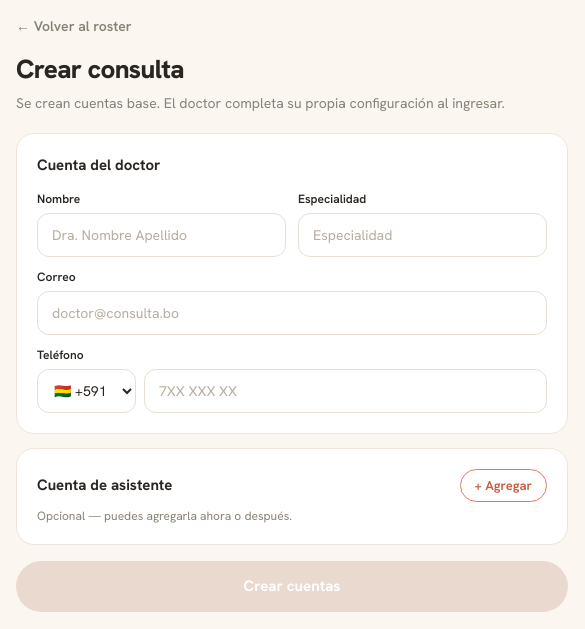
Test case: CreatePracticeForm › shows the setup links after a successful submission
This screenshot has width=585, height=629.
Type "Dra. Carla Mendoza" into the field labelled "Nombre" at (162, 234), box top-left (37, 212), bottom-right (286, 256)
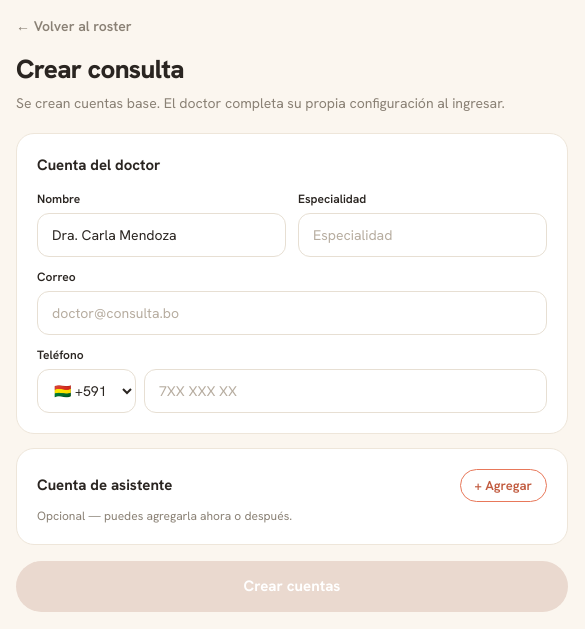
Type "Cardiología" into the field labelled "Especialidad" at (422, 234), box top-left (298, 212), bottom-right (547, 256)
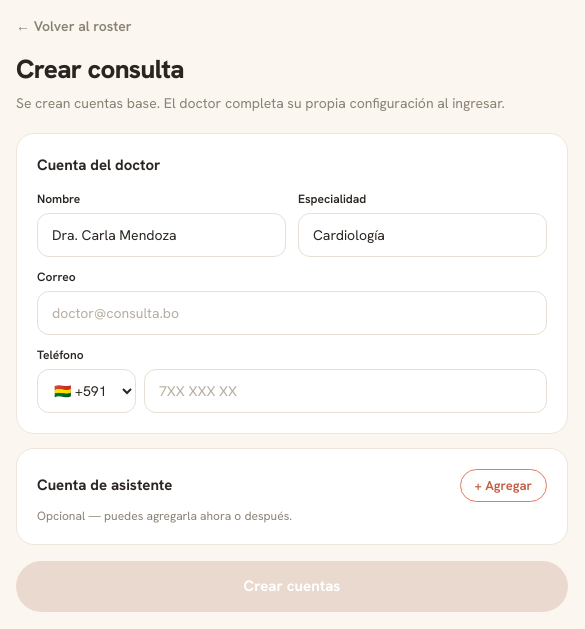
Type "carla@consulta.bo" into the field labelled "Correo" at (292, 312), box top-left (37, 290), bottom-right (547, 334)
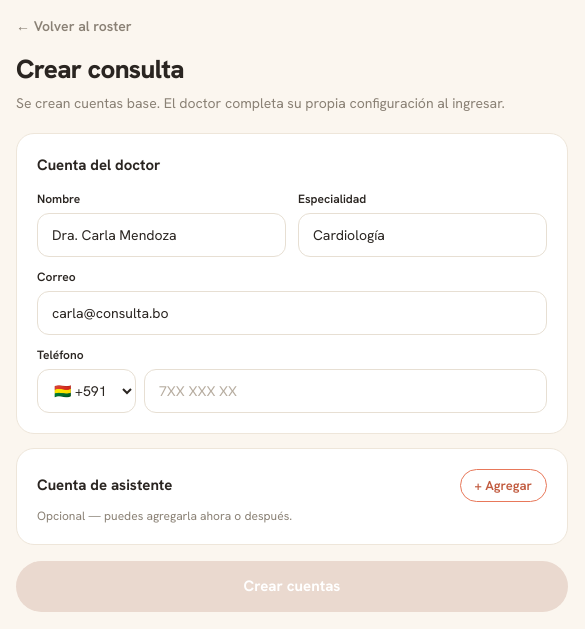
Type "71234567" into the field labelled "Teléfono" at (346, 390), box top-left (144, 368), bottom-right (547, 412)
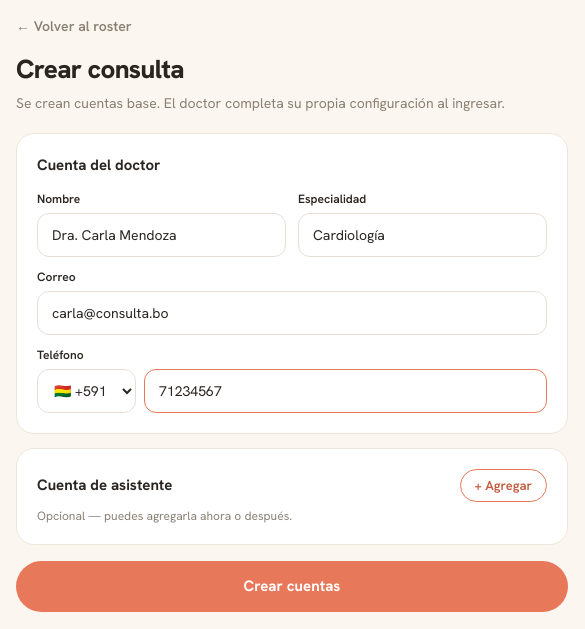
Click the button "Crear cuentas" at (292, 586), box top-left (16, 561), bottom-right (568, 612)
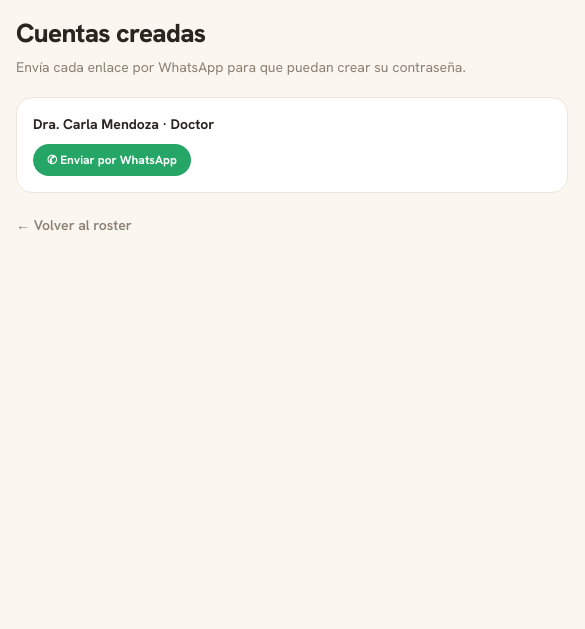
Expected: the heading "Cuentas creadas" is shown, top-left (16, 16), bottom-right (205, 50)
